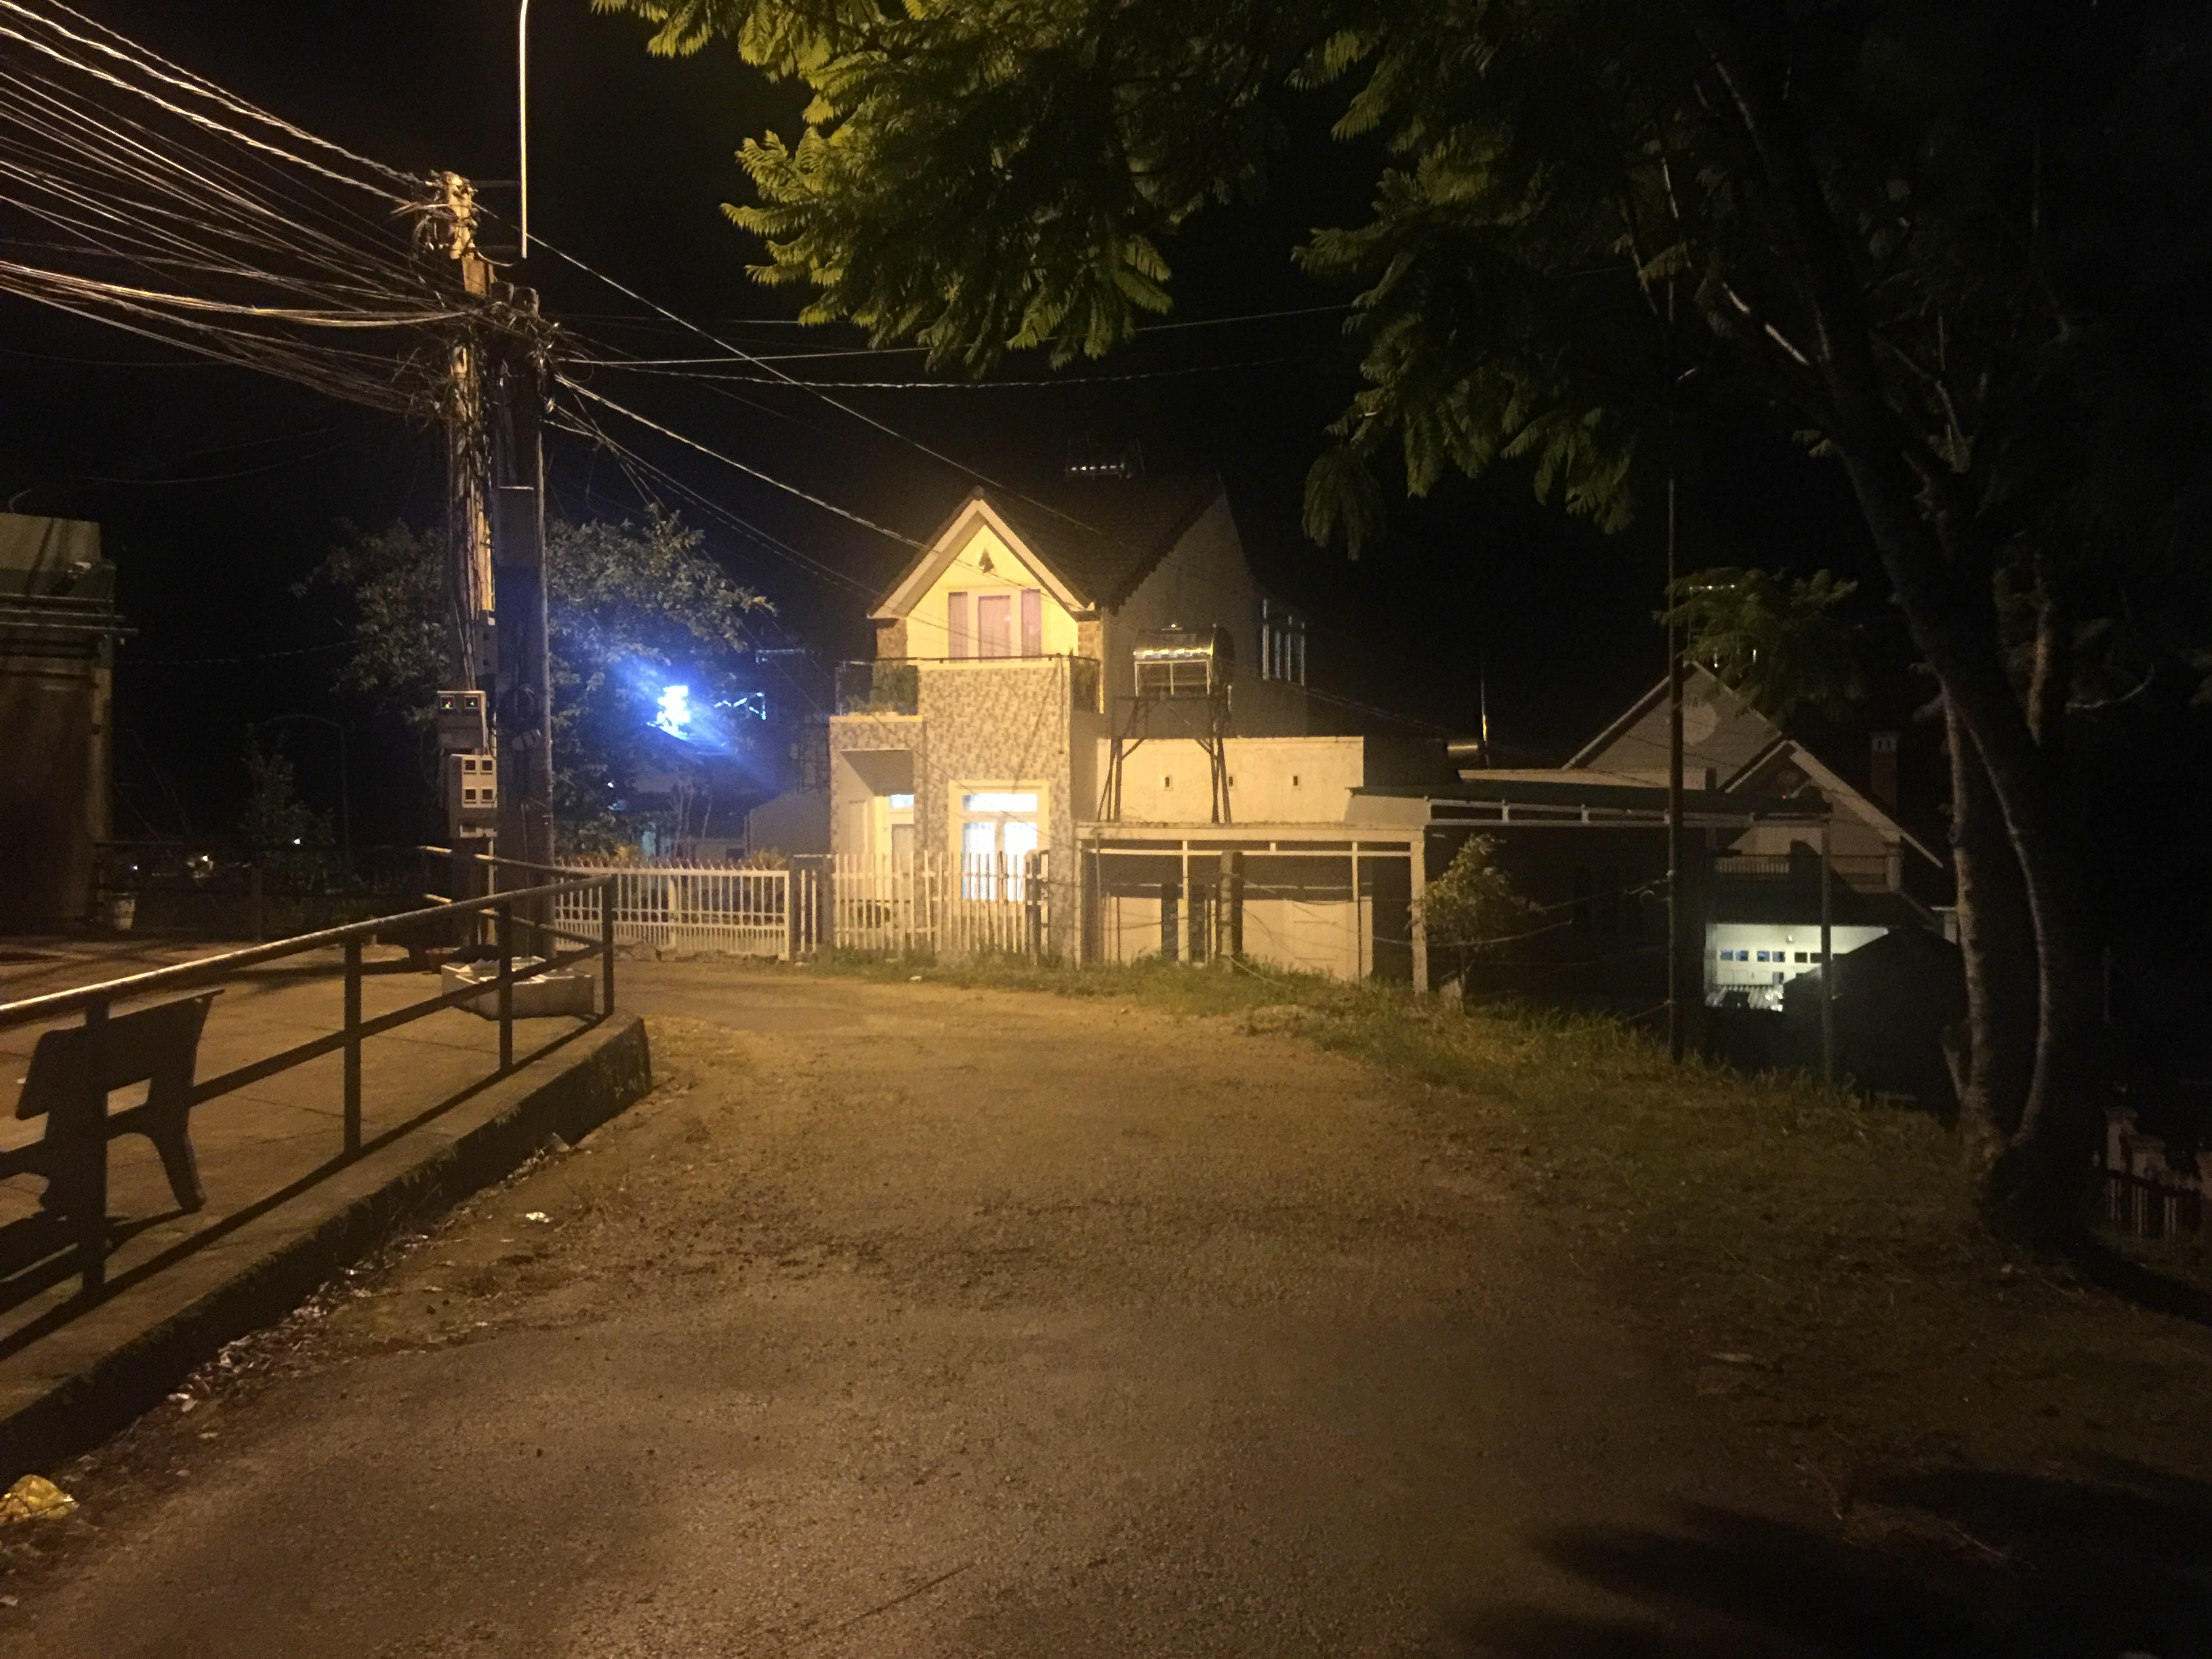hole: (867, 1236, 1080, 1302), (448, 1272, 507, 1297), (495, 1249, 540, 1269)
